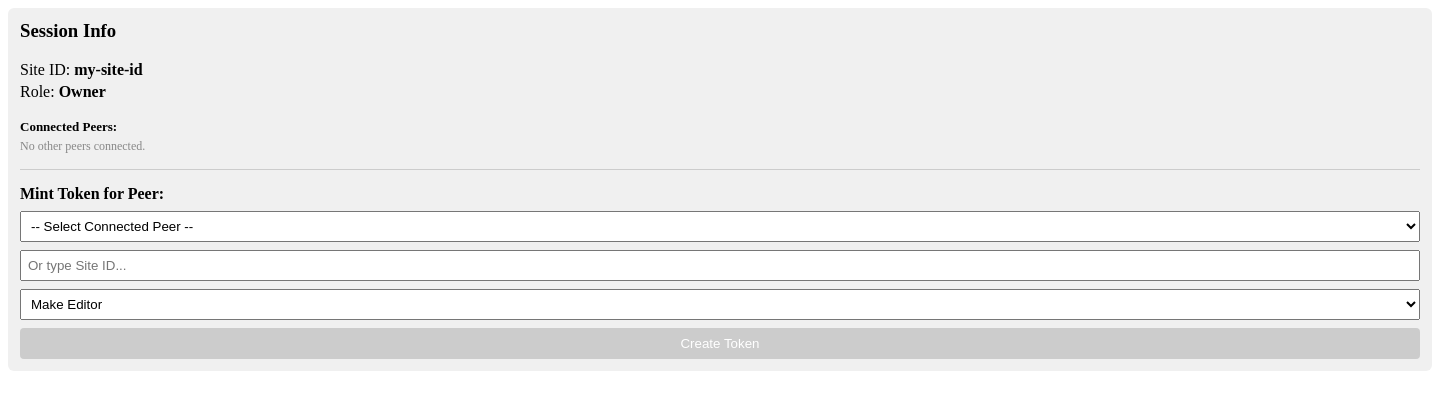
Test case: UI Component: RoleManager › shows an error message if the server rejects the mint request
Type "bob" into the field with placeholder "Or type Site ID...". click: (720, 265)
box: [20,250,1420,281]
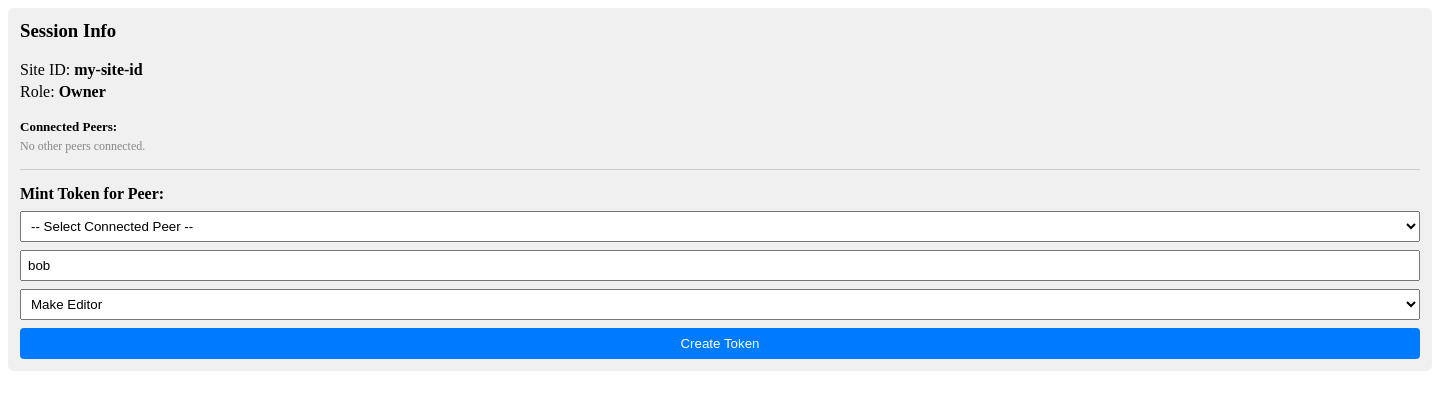
Click the button "Create Token". click: (720, 343)
box: [20,328,1420,359]
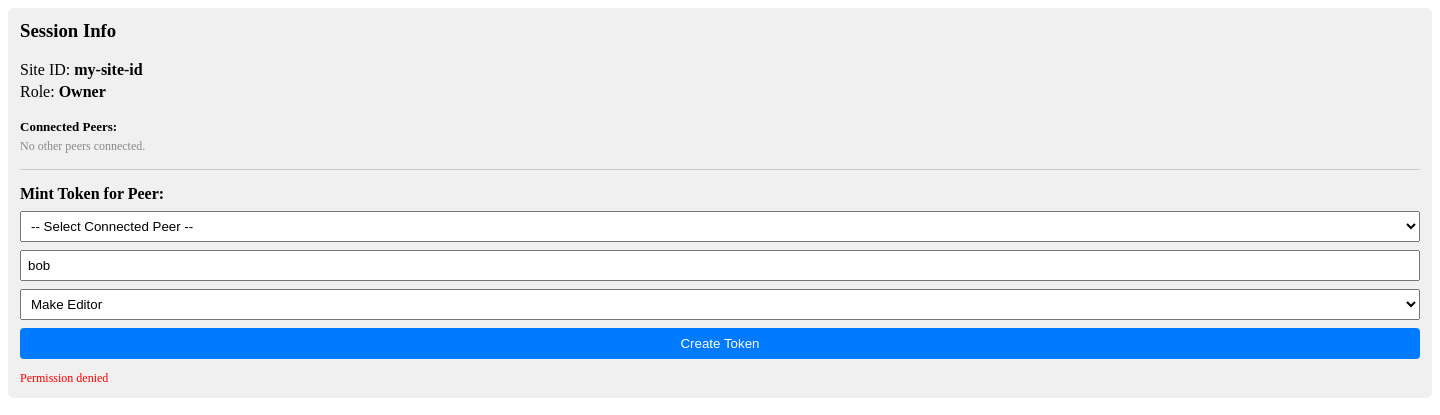
Expected: the text "Permission denied" is shown, [20,371,108,385]
